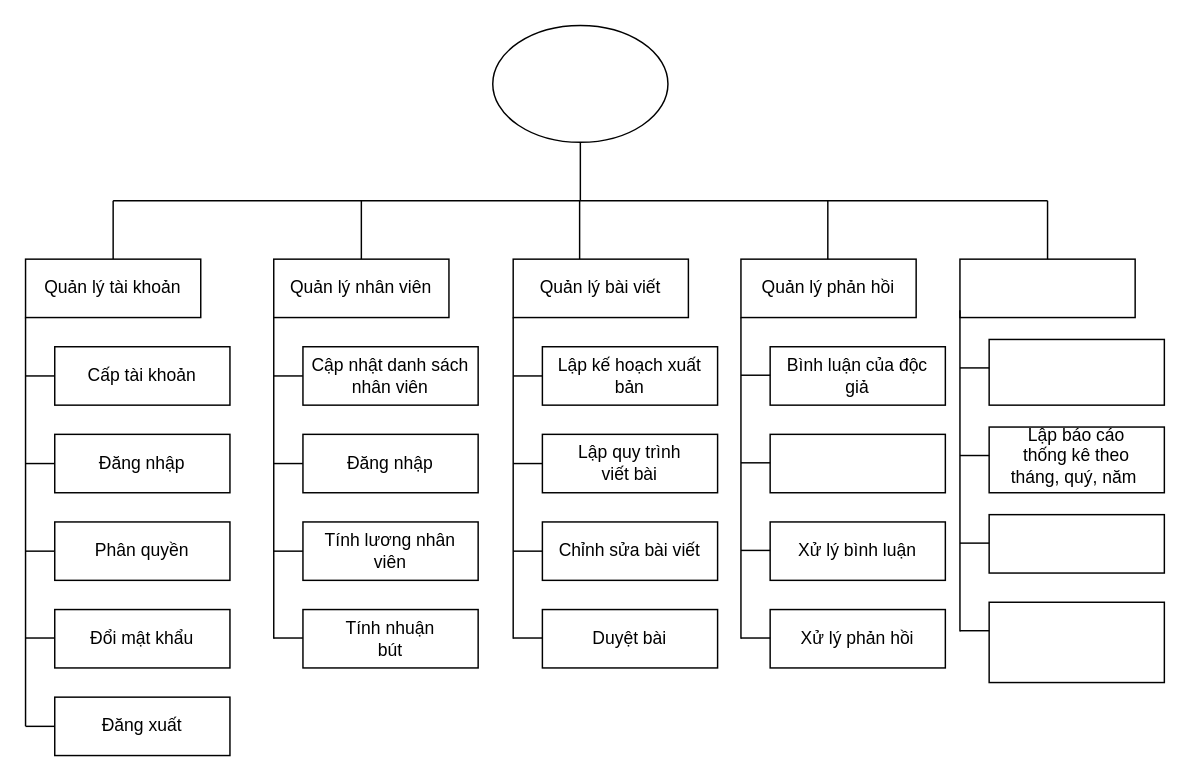
This 1190x781 diagram has some shape labels left out. The shapes that lost their labels are listed below. From the top down, each one's centre as x and y in pixels, then its label:
the point at 579,83: Báo điện tử dân trí
the point at 1046,288: Báo cáo thống kê
the point at 1076,371: Lập báo cáo thống kê theo danh mục bài viết
the point at 857,463: Like, share bài viết từ độc giả
the point at 1076,543: Lập báo cáo thống kê theo tác giả
the point at 1076,642: Lập báo cáo thống kê ý kiến phản hồi từ độc giả
